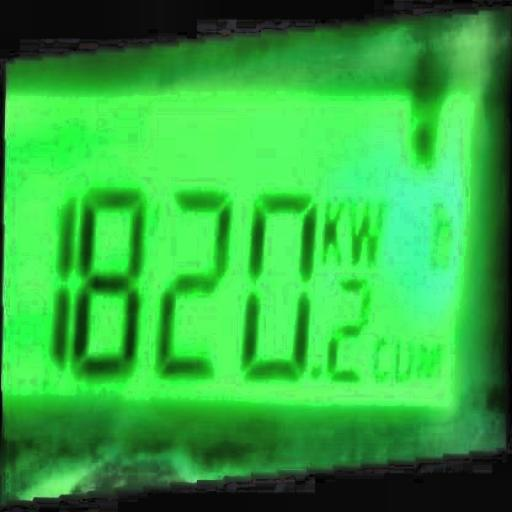DISPLAY_REGION: (2, 67, 499, 441)
SERIAL_REGION: (38, 158, 388, 396)
